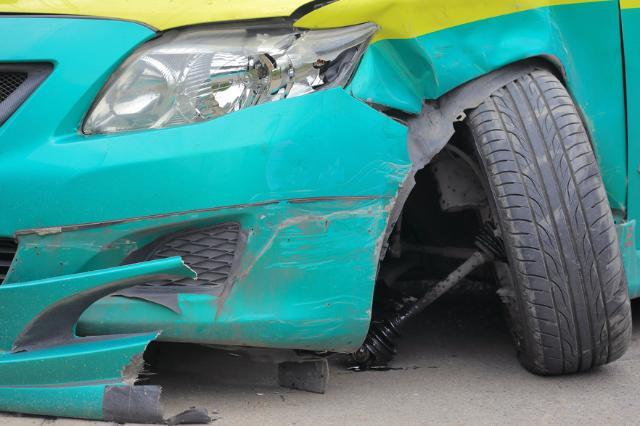Bumper: (0, 131, 404, 415)
Fender: (370, 3, 620, 85)
Light: (246, 21, 365, 94)
